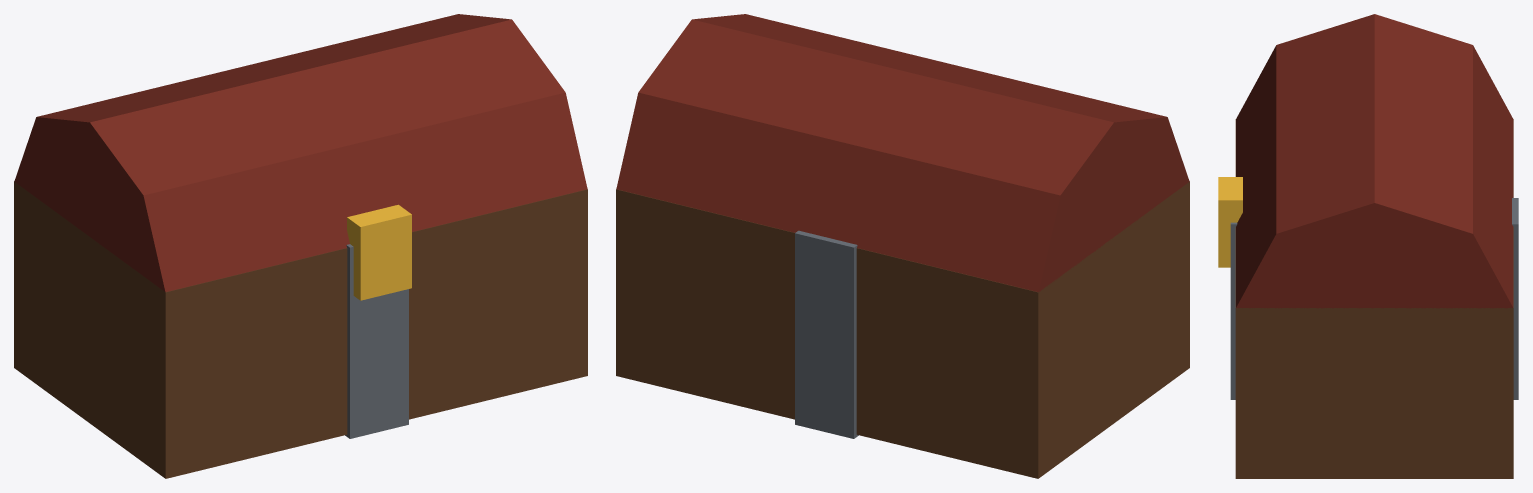
The model's file is SM_Prop_TreasureChest_LQ.glb.
3 views of the same model, side by side, from view 1: azimuth 30°, elevation 25°; view 2: azimuth 150°, elevation 25°; view 3: azimuth 270°, elevation 25° (orthographic). The views are drawn at different scales.
Parts seen in each view (by area): view 1: SM_Prop_TreasureChest_LQ; view 2: SM_Prop_TreasureChest_LQ; view 3: SM_Prop_TreasureChest_LQ.
Boxes of the visible parts, box(x1,y1,x2,y2) form: SM_Prop_TreasureChest_LQ: box(14, 14, 587, 478); SM_Prop_TreasureChest_LQ: box(616, 14, 1189, 478); SM_Prop_TreasureChest_LQ: box(1218, 14, 1518, 478).
Bounding box in the file's own units: 0.9 × 0.6182 × 0.605.
1 material, 1 textured.
